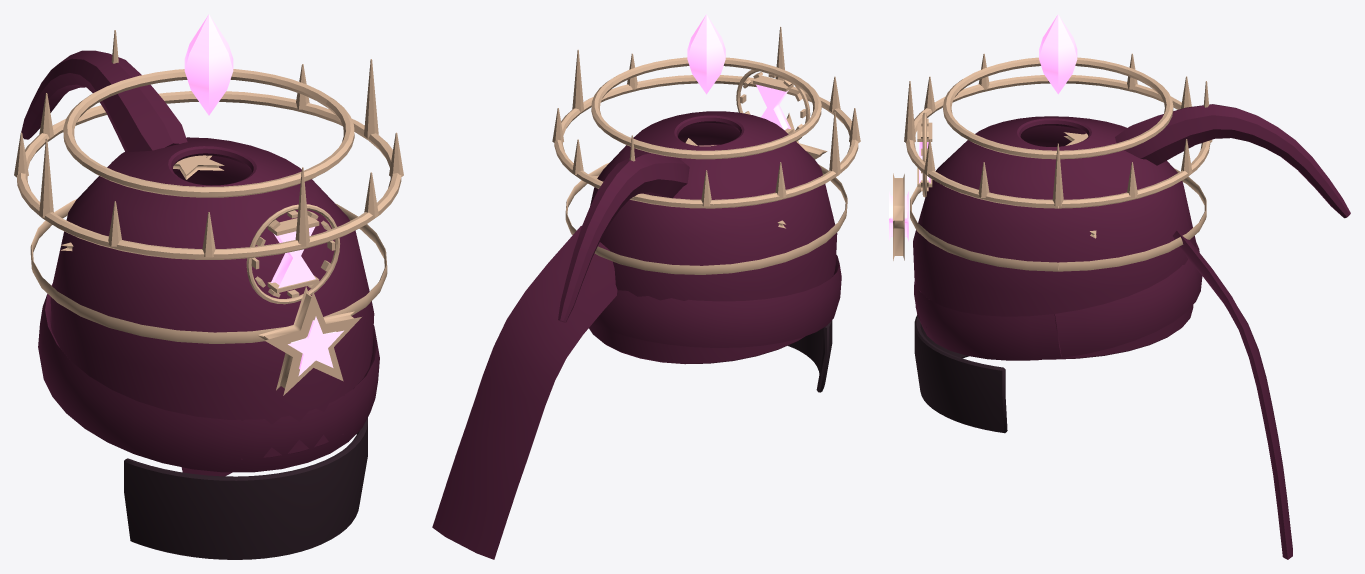
File: asc_endless_volley_helm.glb
The picture shows the model from 3 angles, left to right: view 1: azimuth 30°, elevation 25°; view 2: azimuth 150°, elevation 25°; view 3: azimuth 270°, elevation 25°; orthographic projection. The views are drawn at different scales.
Visible parts, largest first — view 1: asc_endless_volley_helm; view 2: asc_endless_volley_helm; view 3: asc_endless_volley_helm.
Part boxes in pixels (<box>): asc_endless_volley_helm: <box>14,14,403,559</box>; asc_endless_volley_helm: <box>432,14,860,559</box>; asc_endless_volley_helm: <box>889,14,1350,559</box>.
Bounding box in the file's own units: 0.4553 × 0.7229 × 0.6231.
